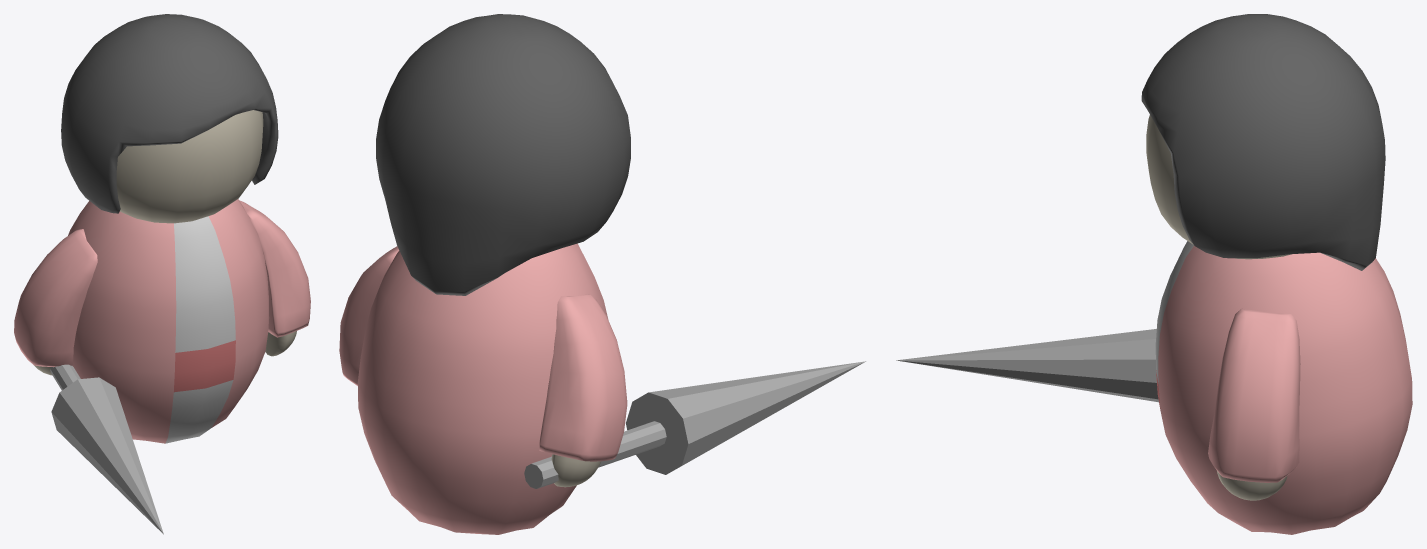
Rendered from SetsukoWalk_Umbrella.fbx.
3 views of the same model, side by side, from view 1: azimuth 30°, elevation 25°; view 2: azimuth 150°, elevation 25°; view 3: azimuth 270°, elevation 25° (orthographic). The views are drawn at different scales.
Parts seen in each view (by area): view 1: Torso, Hair, Head, pasted__pCylinder5, LeftArm1, LeftArm; view 2: Hair, Torso, pasted__pCylinder5, LeftArm1, LeftArm; view 3: Hair, Torso, LeftArm, pasted__pCylinder5, Head.
Boxes of the visible parts, left/top/right/bottom form: Torso: left=68, top=199, right=269, bottom=443; Hair: left=61, top=14, right=278, bottom=213; Head: left=116, top=110, right=263, bottom=223; pasted__pCylinder5: left=50, top=364, right=163, bottom=534; LeftArm1: left=14, top=229, right=97, bottom=375; LeftArm: left=239, top=200, right=310, bottom=356; Hair: left=376, top=14, right=630, bottom=295; Torso: left=357, top=243, right=608, bottom=534; pasted__pCylinder5: left=524, top=361, right=865, bottom=488; LeftArm1: left=539, top=294, right=627, bottom=487; LeftArm: left=339, top=246, right=399, bottom=385; Hair: left=1141, top=14, right=1385, bottom=270; Torso: left=1155, top=241, right=1412, bottom=534; LeftArm: left=1208, top=309, right=1300, bottom=500; pasted__pCylinder5: left=896, top=329, right=1158, bottom=402; Head: left=1146, top=115, right=1292, bottom=259.
Bounding box in the file's own units: 3.69 × 4.99 × 4.8.
